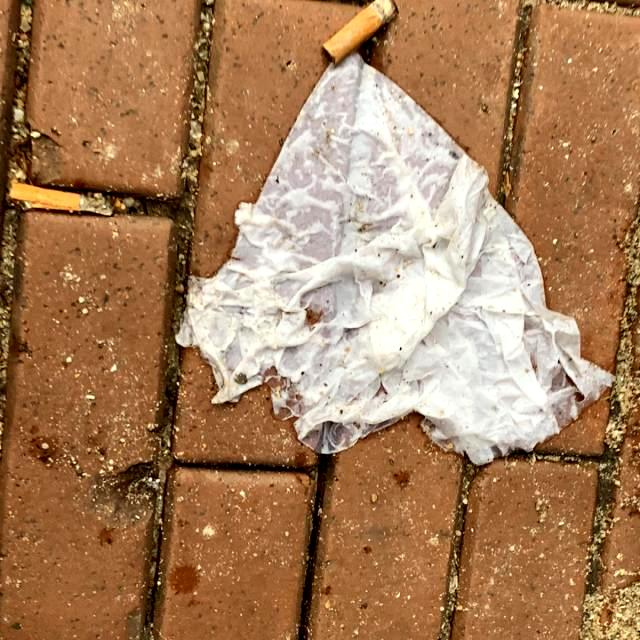Paper: (173, 49, 617, 470)
